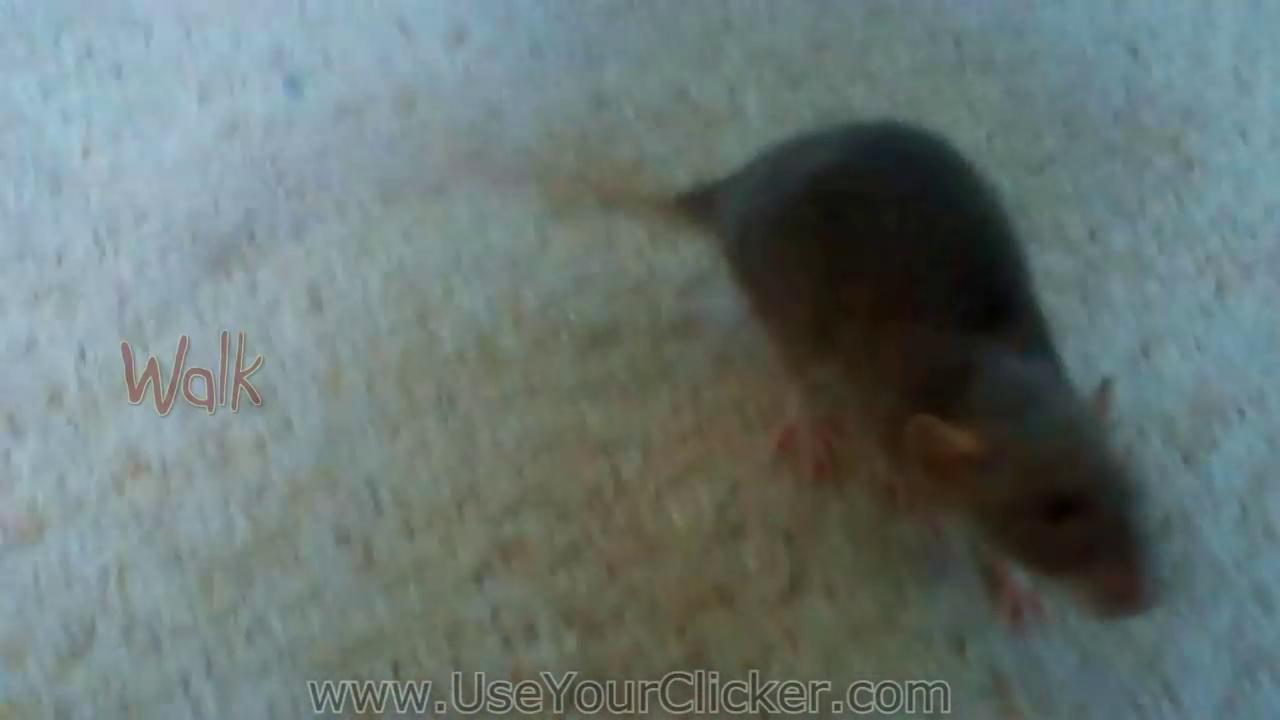rat: (554, 112, 1158, 627)
